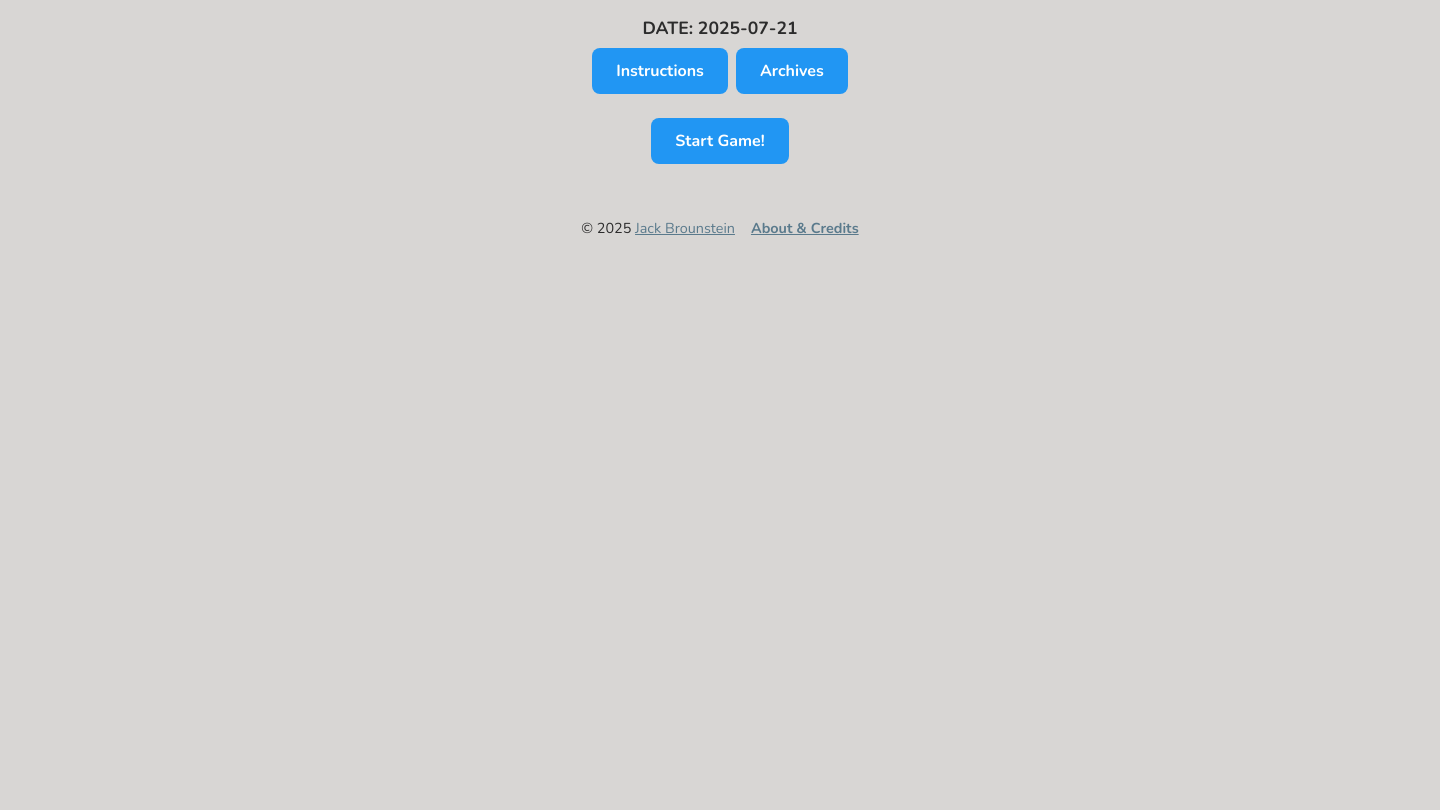
Scenario: Game Component - Integration Tests › Archives Modal › should open the Archives modal when the button is clicked
This screenshot has width=1440, height=810.
Click the button "Archives" at (792, 71), box [736,48,848,94]
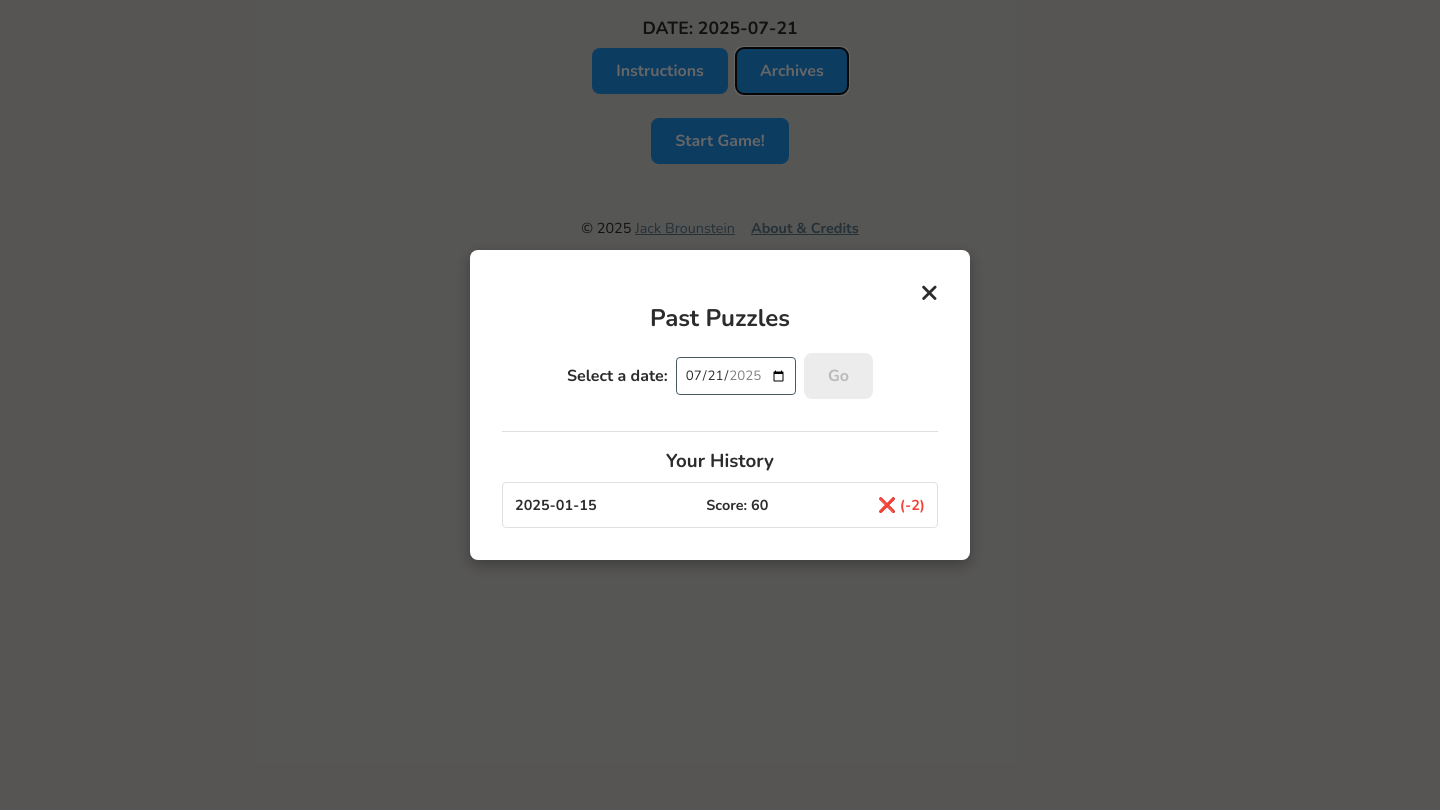
Now the dialog "Past Puzzles" is shown, box [470,250,970,560]
